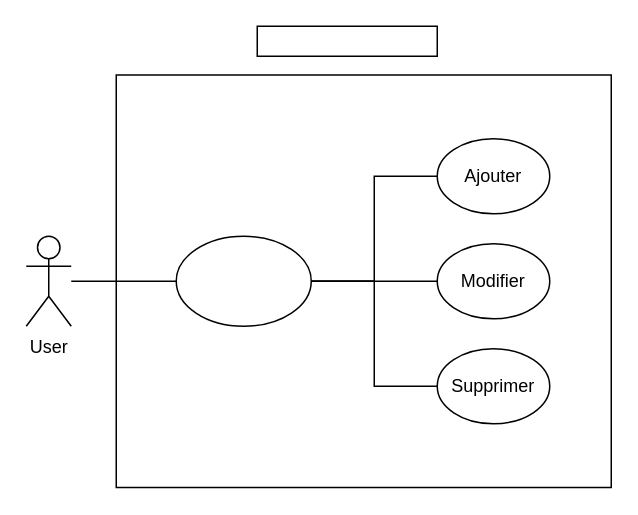
Some shapes in this 638 by 515 pixel diagram are drawn without their labels. Each missing label, with the centre of its shape:
Gestion personnel: pixel 243 280
USE CASE: pixel 346 40
